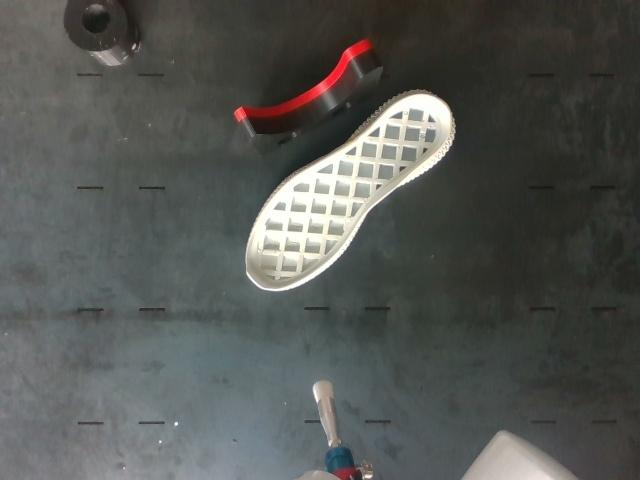shoes: (247, 95, 449, 289)
